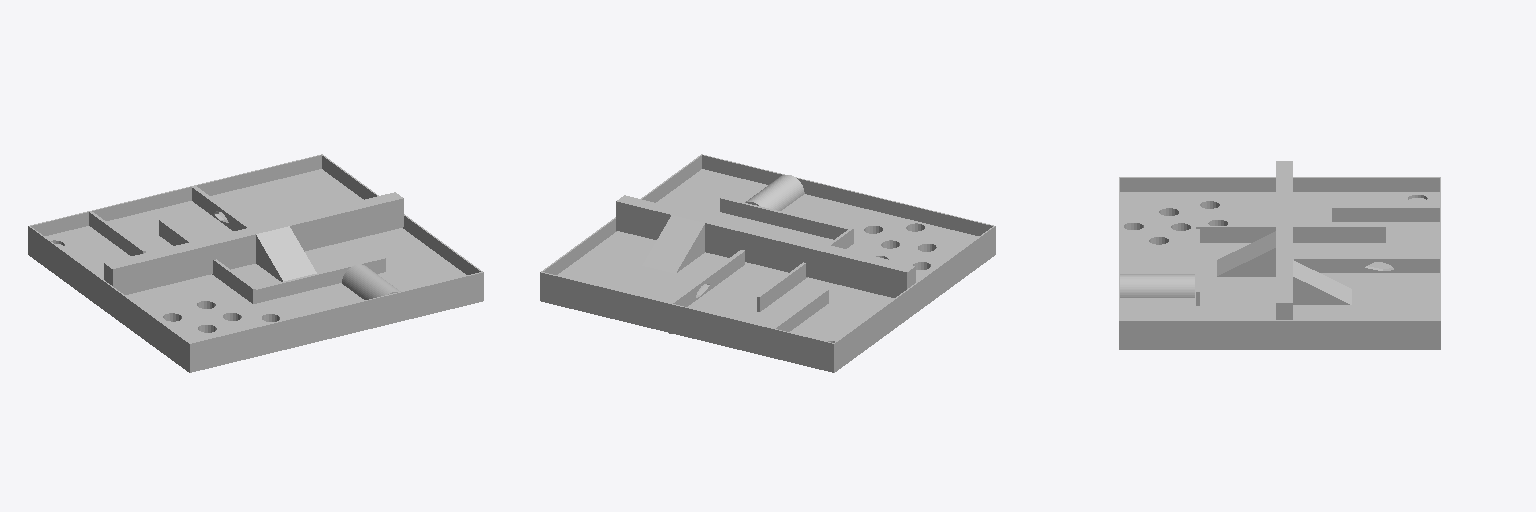
The model's file is compactmaze.obj.
The picture shows the model from 3 angles: view 1: azimuth 30°, elevation 25°; view 2: azimuth 150°, elevation 25°; view 3: azimuth 270°, elevation 25°; orthographic projection.
Parts seen in each view (by area): view 1: obj_0; view 2: obj_0; view 3: obj_0.
Part boxes in pixels (left/top/right/bottom): obj_0: left=28, top=154, right=483, bottom=372; obj_0: left=540, top=154, right=995, bottom=372; obj_0: left=1119, top=161, right=1440, bottom=349.
Size of the model in its own units: 201 by 31 by 191.